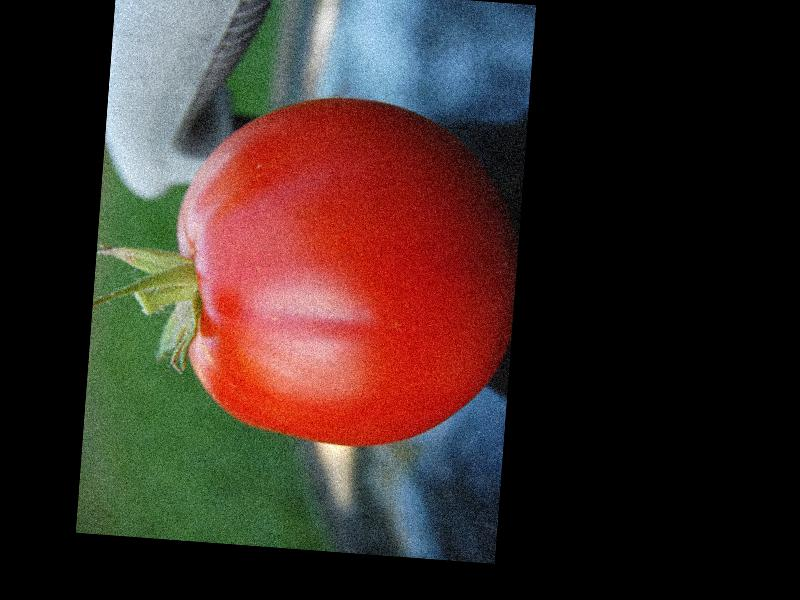Tomato: (162, 85, 528, 457)
